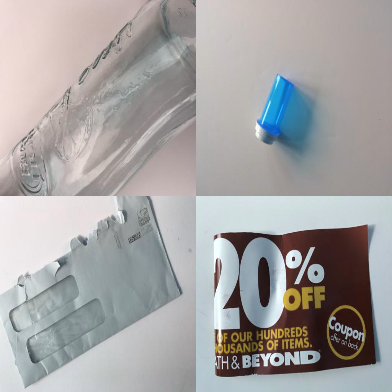glass: (1, 1, 195, 195)
paper: (1, 196, 183, 388), (212, 224, 378, 377)
plastic: (256, 75, 295, 144)
